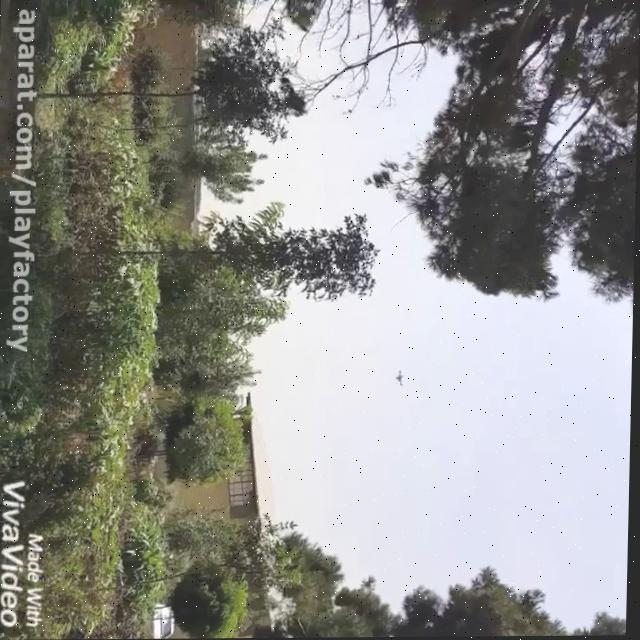drone: (393, 365, 410, 391)
